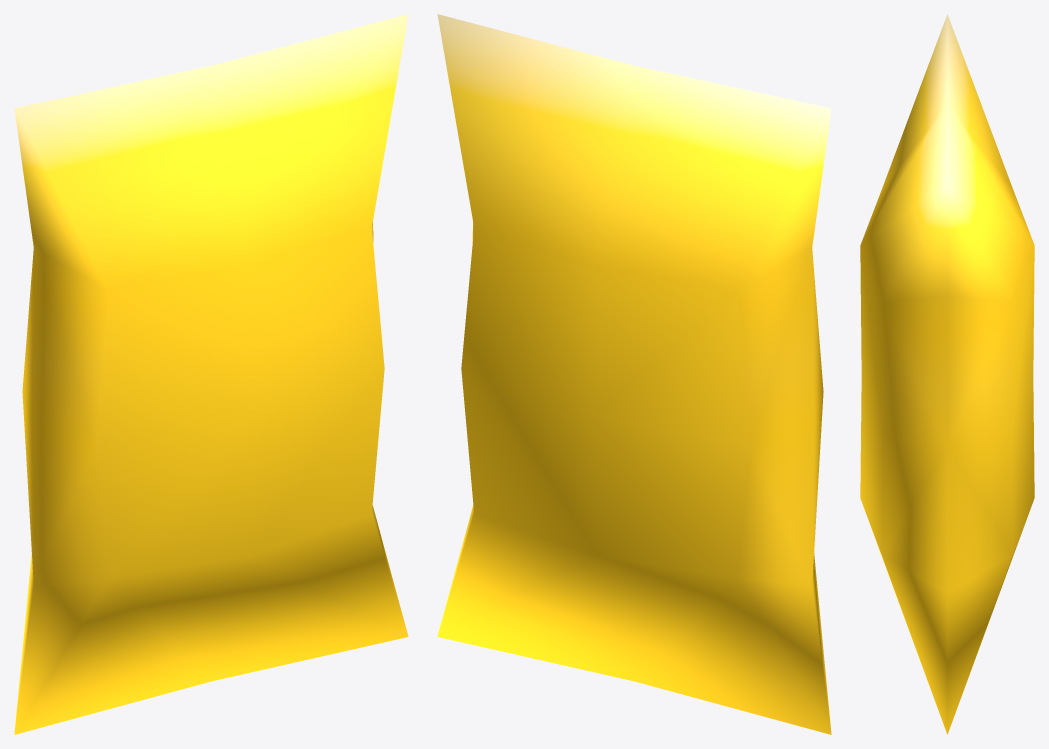
File: 8aac04fd-de53-4175-9b07-2915f10322a5.glb
3 views of the same model, side by side, from view 1: azimuth 30°, elevation 25°; view 2: azimuth 150°, elevation 25°; view 3: azimuth 270°, elevation 25° (orthographic). The views are drawn at different scales.
Parts seen in each view (by area): view 1: ChipBag; view 2: ChipBag; view 3: ChipBag.
Part boxes in pixels (x1,y1,x2,y2): ChipBag: (14, 14, 408, 734); ChipBag: (437, 14, 831, 734); ChipBag: (860, 14, 1034, 734).
Bounding box in the file's own units: 0.2333 × 0.3546 × 0.1013.
1 material, 1 textured.
